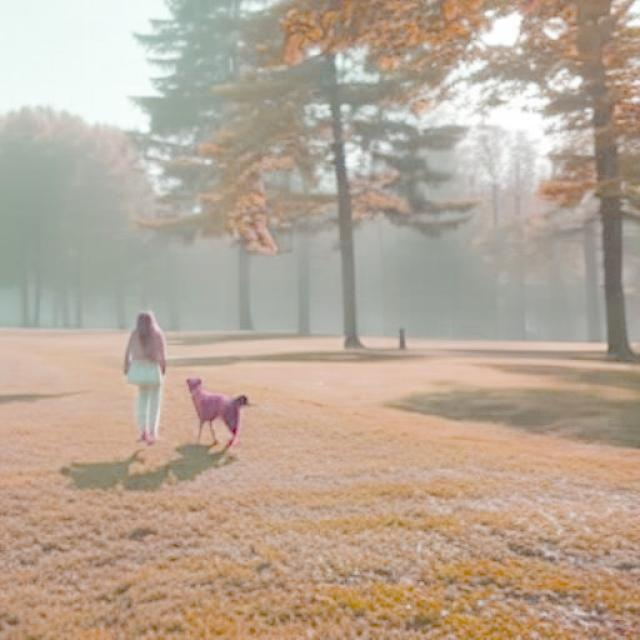Unleashed_Dog: (125, 358, 253, 446)
